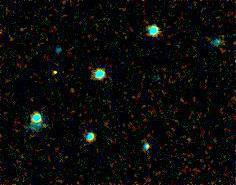star: (39, 56, 69, 86)
